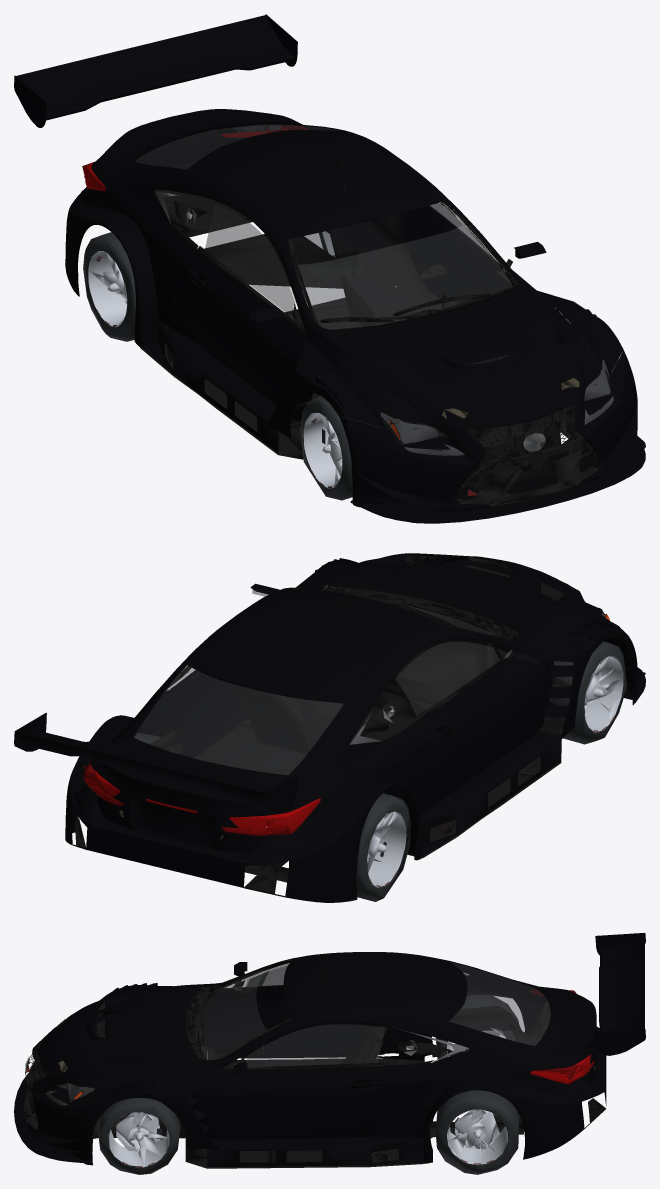
Rendered from lexus_rcf_gt3.obj.
3 renders of one model, top to bottom at view 1: azimuth 30°, elevation 25°; view 2: azimuth 150°, elevation 25°; view 3: azimuth 270°, elevation 25°, orthographic. The views are drawn at different scales.
Parts seen in each view (by area): view 1: BODY, GLASS, WHEEL_RR, WHEEL_RF; view 2: BODY, GLASS, WHEEL_RF, WHEEL_RR; view 3: BODY, GLASS, WHEEL_LR, WHEEL_LF, WHEEL_RR.
Boxes of the visible parts, x1,y1,x2,y2 form: BODY: [14, 14, 645, 523]; GLASS: [82, 124, 613, 455]; WHEEL_RR: [83, 232, 136, 341]; WHEEL_RF: [300, 396, 382, 500]; BODY: [14, 553, 645, 902]; GLASS: [84, 588, 605, 835]; WHEEL_RF: [544, 641, 626, 744]; WHEEL_RR: [356, 793, 411, 901]; BODY: [14, 933, 645, 1168]; GLASS: [45, 961, 590, 1105]; WHEEL_LR: [435, 1090, 519, 1174]; WHEEL_LF: [97, 1098, 180, 1174]; WHEEL_RR: [435, 994, 518, 1060].
Bounding box in the file's own units: 1.65 × 1.32 × 3.94.
